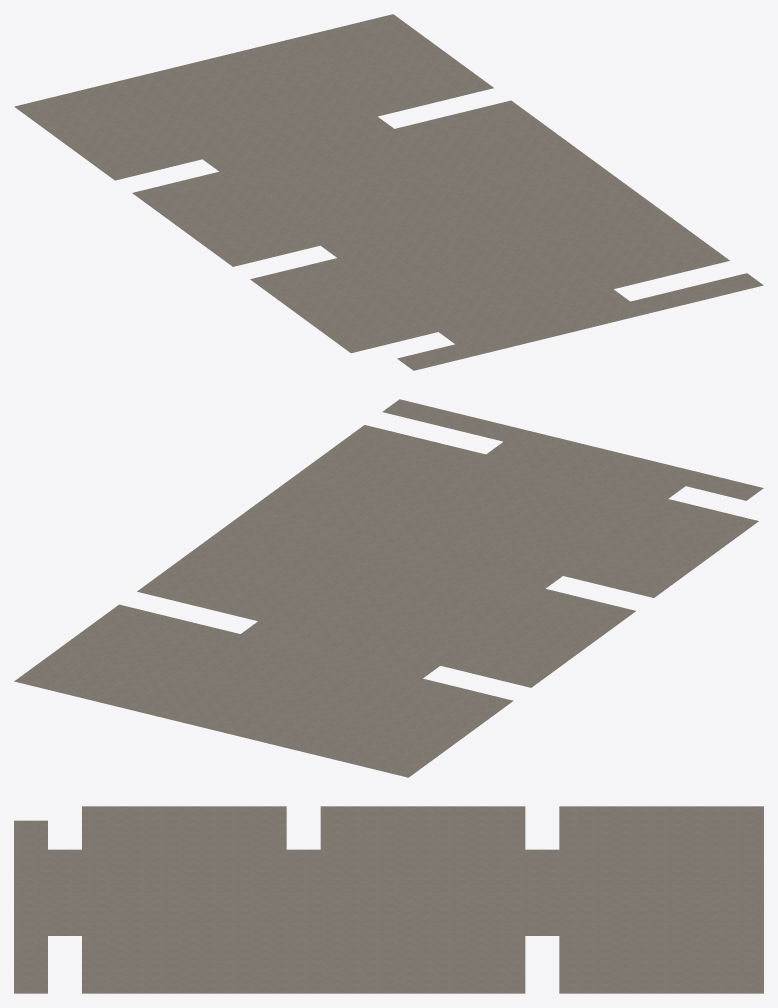
File: Roof.gltf
The picture shows the model from 3 angles, top to bottom: view 1: azimuth 30°, elevation 25°; view 2: azimuth 150°, elevation 25°; view 3: azimuth 270°, elevation 25°; orthographic projection. The views are drawn at different scales.
Visible parts, largest first — view 1: Roof; view 2: Roof; view 3: Roof.
Part boxes in pixels (<box>): Roof: <box>14,14,763,370</box>; Roof: <box>14,399,763,777</box>; Roof: <box>14,806,763,993</box>.
Size of the model in its own units: 25.99 by 4.6e-05 by 44.
Materials: 1 (1 with a texture image).
